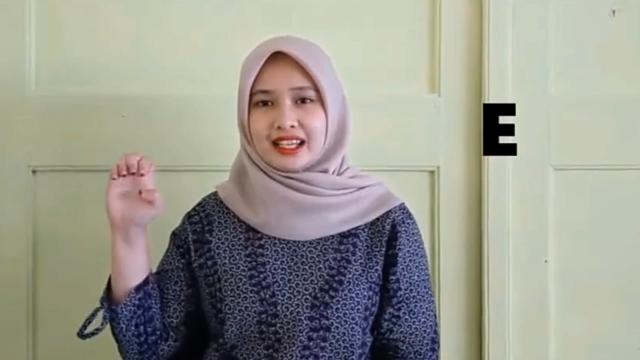E: (102, 151, 164, 231)
